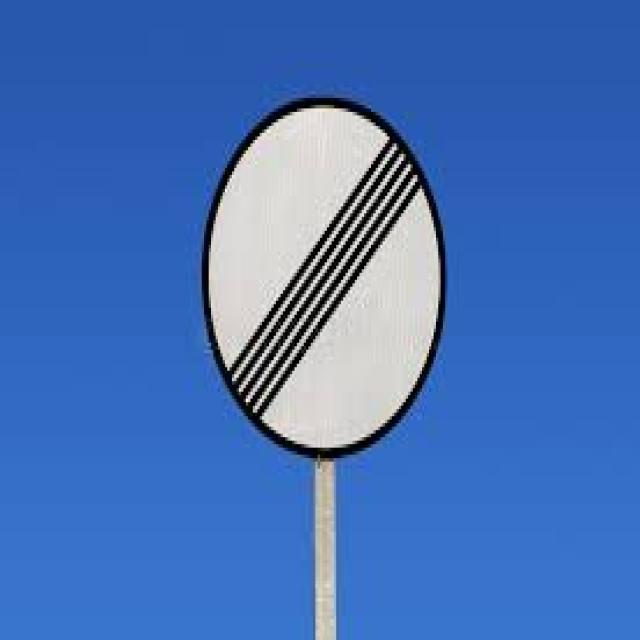restriction ends: (202, 102, 448, 458)
